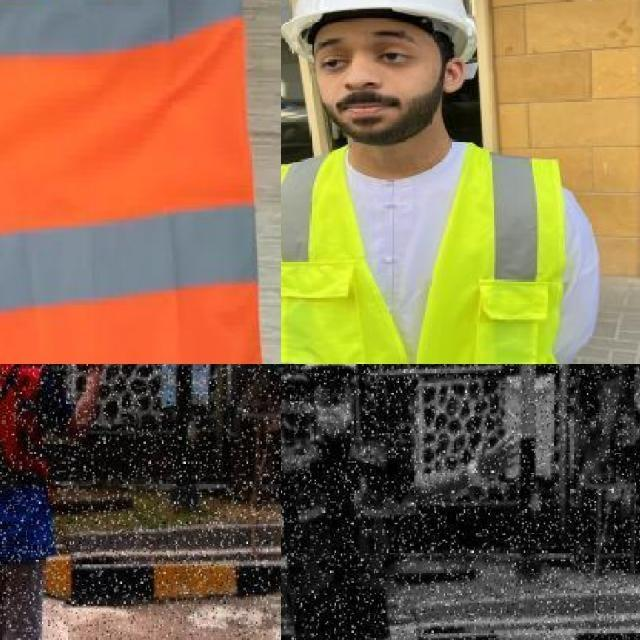apron: (467, 431, 521, 488)
